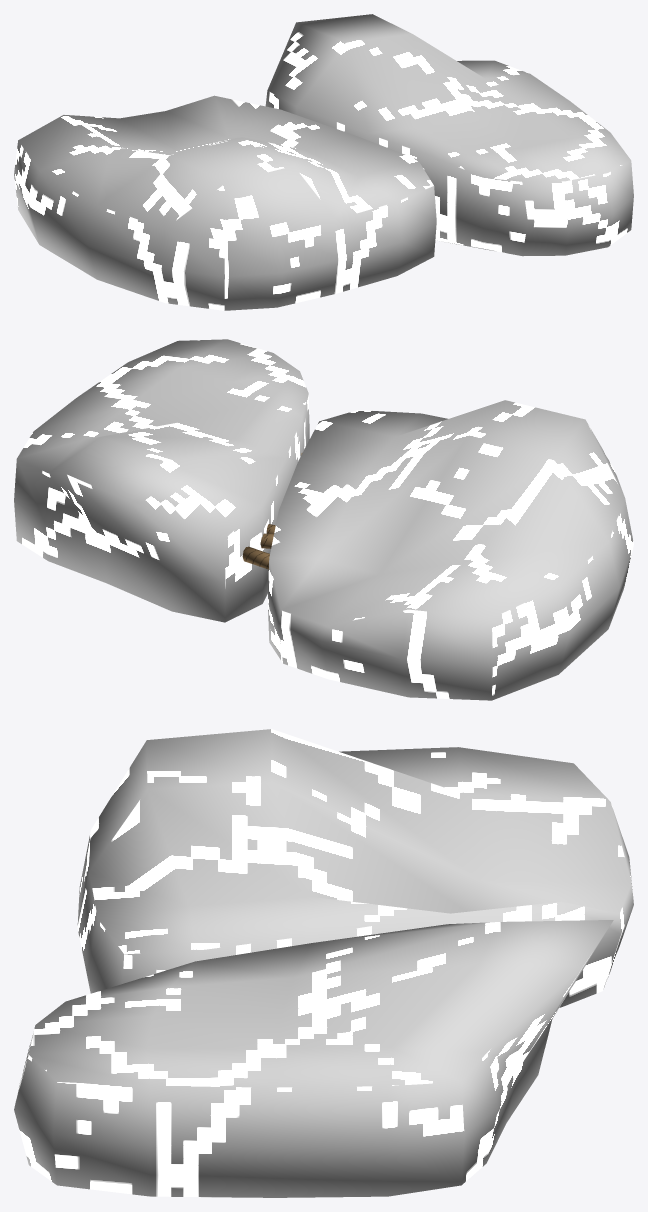
The model's file is PROJECT DREAM - Debris06.fbx.
3 views of the same model, one above another, from view 1: azimuth 30°, elevation 25°; view 2: azimuth 150°, elevation 25°; view 3: azimuth 270°, elevation 25° (orthographic). The views are drawn at different scales.
Parts seen in each view (by area): view 1: Debris 06; view 2: Debris 06; view 3: Debris 06.
Part boxes in pixels (bbox=[...]): Debris 06: bbox=[14, 14, 633, 310]; Debris 06: bbox=[14, 339, 633, 700]; Debris 06: bbox=[14, 729, 633, 1197].
Size of the model in its own units: 606 by 148 by 452.
2 materials, 1 textured.
